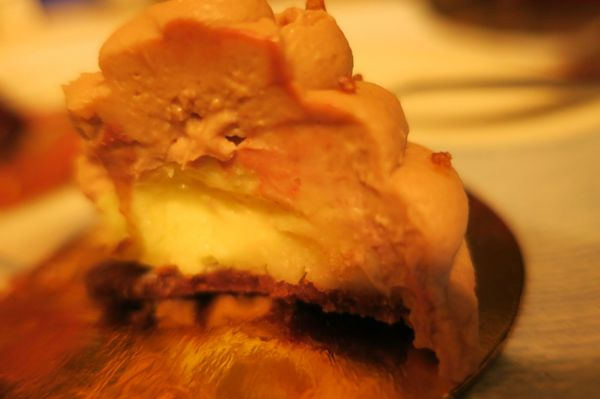soup: (13, 1, 479, 392)
